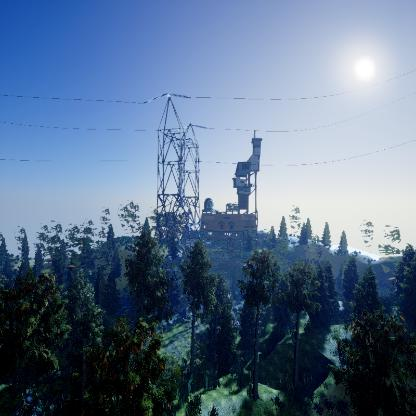tower: (143, 90, 209, 260)
